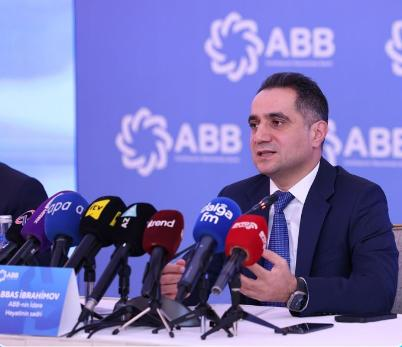ABB: (200, 11, 265, 84), (112, 104, 175, 178)
